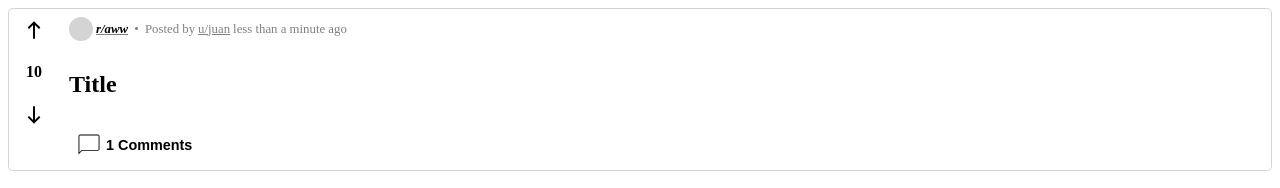
Post previews › Pressing upvote updates number and changes icon color
What coordinates should you click on to do the following:
click the 1st button with test id "icon-link"
I would click on:
 (34, 30)
Its box is [18,19,50,41].
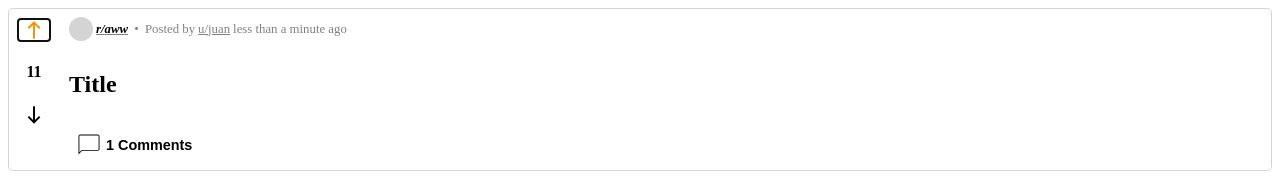
Result: the text with test id "votes-display" reads "11" at [26,63,42,80]
